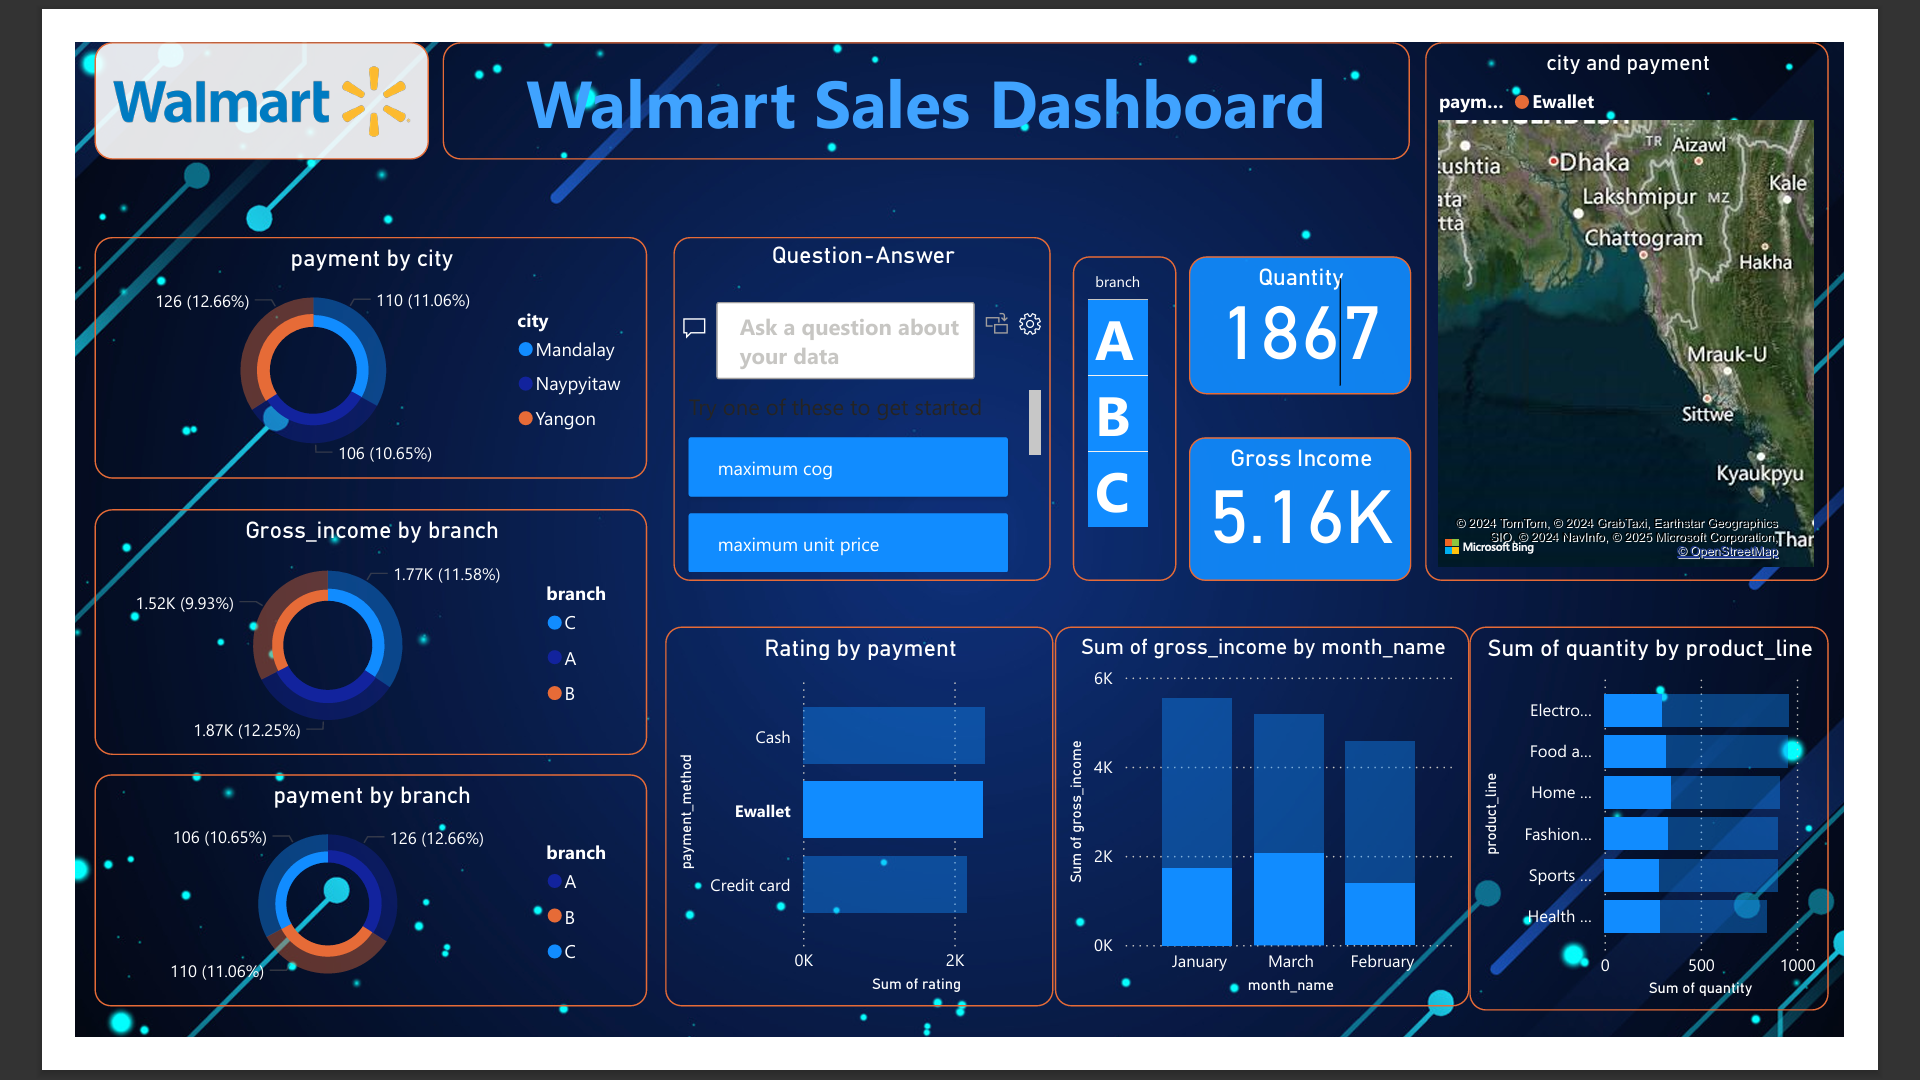

What the dashboard file says about the page in this screenshot:
{"tool":"powerbi","page":{"name":"Page 1","canvas":[1280,720],"ordinal":0},"visuals":[{"type":"donutChart","title":"Gross_income by branch","fields":{"Y":["Sum(walmaert new dataset.gross_income)"],"Category":["walmaert new dataset.branch"]},"box":[13.7,337.6,400.7,178.4],"z":0},{"type":"donutChart","title":" payment by branch","fields":{"Series":["walmaert new dataset.branch"],"Y":["CountNonNull(walmaert new dataset.payment_method)"]},"box":[13.7,529.7,400.7,168.8],"z":1000},{"type":"donutChart","title":" payment by city","fields":{"Y":["CountNonNull(walmaert new dataset.payment_method)"],"Series":["walmaert new dataset.city"]},"box":[13.7,141.3,400.7,174.3],"z":2000},{"type":"clusteredBarChart","title":" Rating by payment","fields":{"Y":["Sum(walmaert new dataset.rating)"],"Category":["walmaert new dataset.payment_method"]},"box":[426.8,422.6,281.3,275.8],"z":3000},{"type":"clusteredBarChart","fields":{"Y":["Sum(walmaert new dataset.quantity)"],"Category":["walmaert new dataset.product_line"]},"box":[1008.6,422.6,260.7,278.6],"z":4000},{"type":"columnChart","fields":{"Y":["Sum(walmaert new dataset.gross_income)"],"Category":["walmaert new dataset.month_name"]},"box":[709.4,422.6,299.1,275.8],"z":5000},{"type":"card","title":"Quantity","fields":{"Values":["Sum(walmaert new dataset.quantity)"]},"box":[806.4,155.1,160.3,100],"z":6000},{"type":"card","title":"Gross Income","fields":{"Values":["Sum(walmaert new dataset.gross_income)"]},"box":[806.4,285.9,160.3,103.8],"z":7000},{"type":"tableEx","fields":{"Values":["walmaert new dataset.branch"]},"box":[721.8,155.1,75.6,234.6],"z":8000},{"type":"textbox","box":[266.2,0,699.8,85.1],"z":9000},{"type":"map","title":"city and payment","fields":{"Category":["walmaert new dataset.city"],"Series":["walmaert new dataset.payment_method"],"Size":["CountNonNull(walmaert new dataset.city)"]},"box":[977,0,292.3,389.7],"z":10001},{"type":"image","box":[14.1,0,242.3,84.6],"z":10002},{"type":"qnaVisual","title":"Question-Answer","box":[433.3,141,273.1,248.7],"z":10003}]}

Visuals, with their boxes in screenshot pixels (x1, y1, x2, y2), scaled from the page's 1280x720 canvas onto the 1920x1080 screenshot:
"Gross_income by branch" donutChart: l=21, t=506, r=622, b=774
" payment by branch" donutChart: l=21, t=795, r=622, b=1048
" payment by city" donutChart: l=21, t=212, r=622, b=473
" Rating by payment" clusteredBarChart: l=640, t=634, r=1062, b=1048
clusteredBarChart - Sum(walmaert new dataset.quantity) x walmaert new dataset.product_line: l=1513, t=634, r=1904, b=1052
columnChart - Sum(walmaert new dataset.gross_income) x walmaert new dataset.month_name: l=1064, t=634, r=1513, b=1048
"Quantity" card: l=1210, t=233, r=1450, b=383
"Gross Income" card: l=1210, t=429, r=1450, b=585
tableEx - walmaert new dataset.branch: l=1083, t=233, r=1196, b=585
textbox: l=399, t=0, r=1449, b=128
"city and payment" map: l=1466, t=0, r=1904, b=585
image: l=21, t=0, r=385, b=127
"Question-Answer" qnaVisual: l=650, t=212, r=1060, b=585
